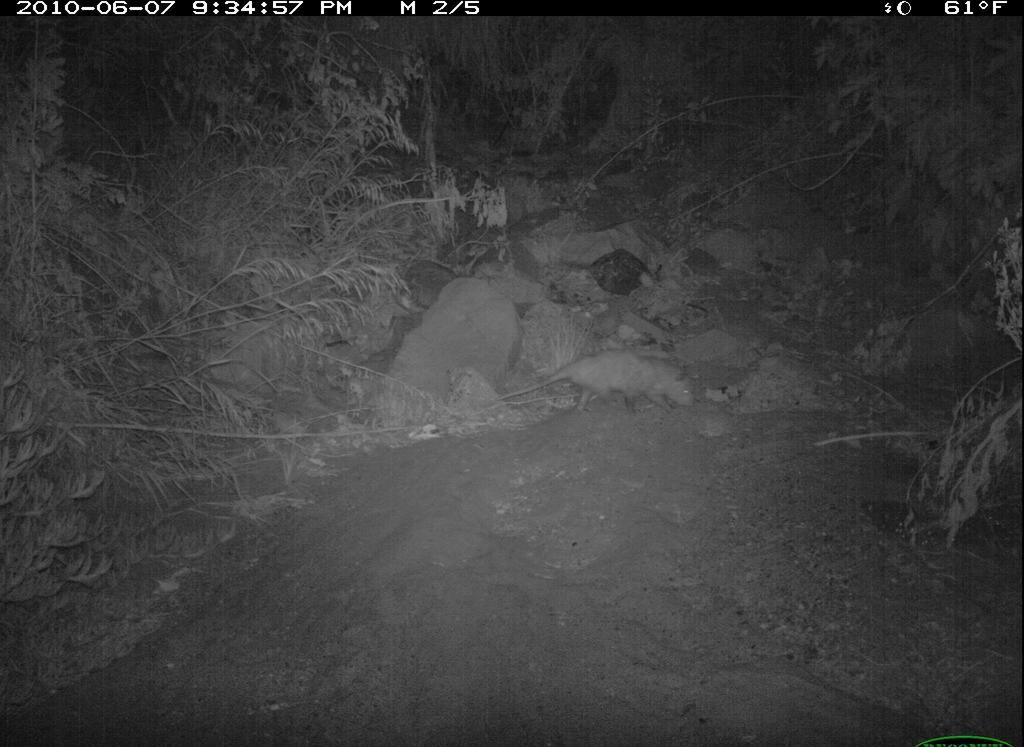opossum: (481, 346, 702, 429)
